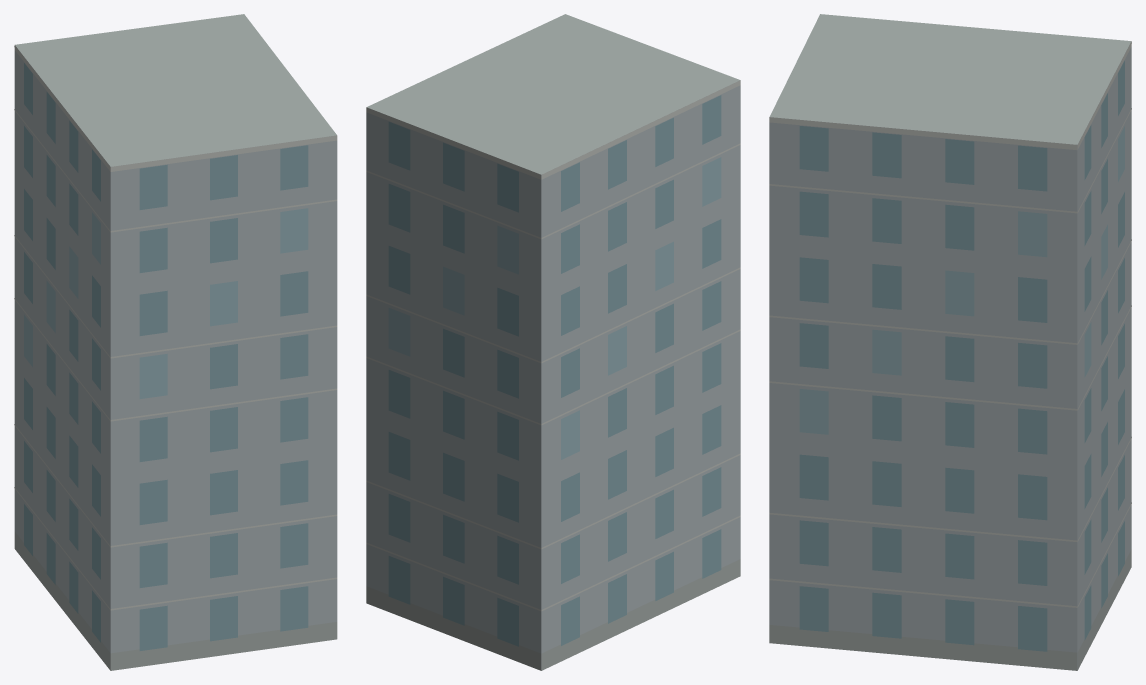
The model's file is survey-upis-32665022.glb.
The picture shows the model from 3 angles, left to right: view 1: azimuth 30°, elevation 25°; view 2: azimuth 150°, elevation 25°; view 3: azimuth 270°, elevation 25°; orthographic projection. The views are drawn at different scales.
Visible parts, largest first — view 1: survey-upis-32665022.tmp; view 2: survey-upis-32665022.tmp; view 3: survey-upis-32665022.tmp.
Boxes of the visible parts, box(x1,y1,x2,y2) form: survey-upis-32665022.tmp: box(14, 14, 337, 670); survey-upis-32665022.tmp: box(366, 14, 740, 670); survey-upis-32665022.tmp: box(769, 14, 1131, 670).
Size of the model in its own units: 12.72 by 23.8 by 14.87.
